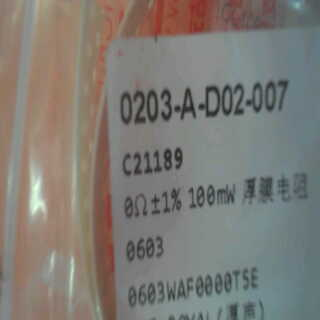0R: (120, 185, 186, 260)
